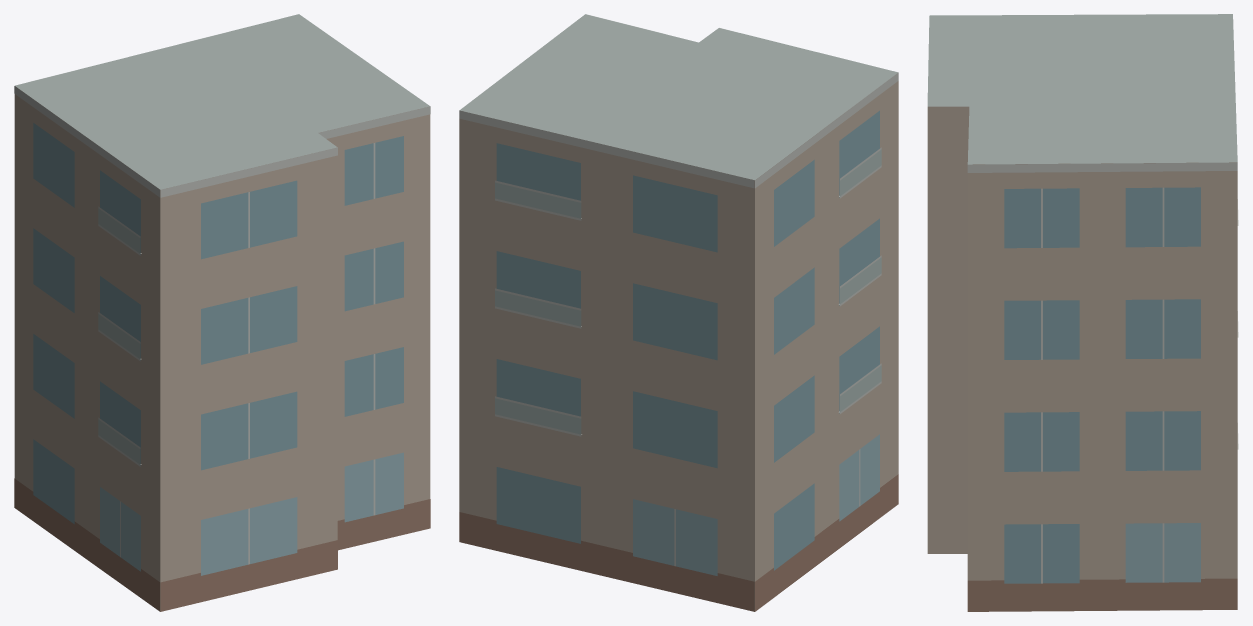
Rendered from survey-upis-32465391.glb.
The picture shows the model from 3 angles, left to right: view 1: azimuth 30°, elevation 25°; view 2: azimuth 150°, elevation 25°; view 3: azimuth 270°, elevation 25°; orthographic projection. The views are drawn at different scales.
Parts seen in each view (by area): view 1: survey-upis-32465391.tmp; view 2: survey-upis-32465391.tmp; view 3: survey-upis-32465391.tmp.
Boxes of the visible parts, x1=… form: survey-upis-32465391.tmp: x1=14, y1=14, x2=430, y2=611; survey-upis-32465391.tmp: x1=459, y1=14, x2=898, y2=611; survey-upis-32465391.tmp: x1=927, y1=14, x2=1238, y2=611.
Bounding box in the file's own units: 9.24 × 12.8 × 8.07.
